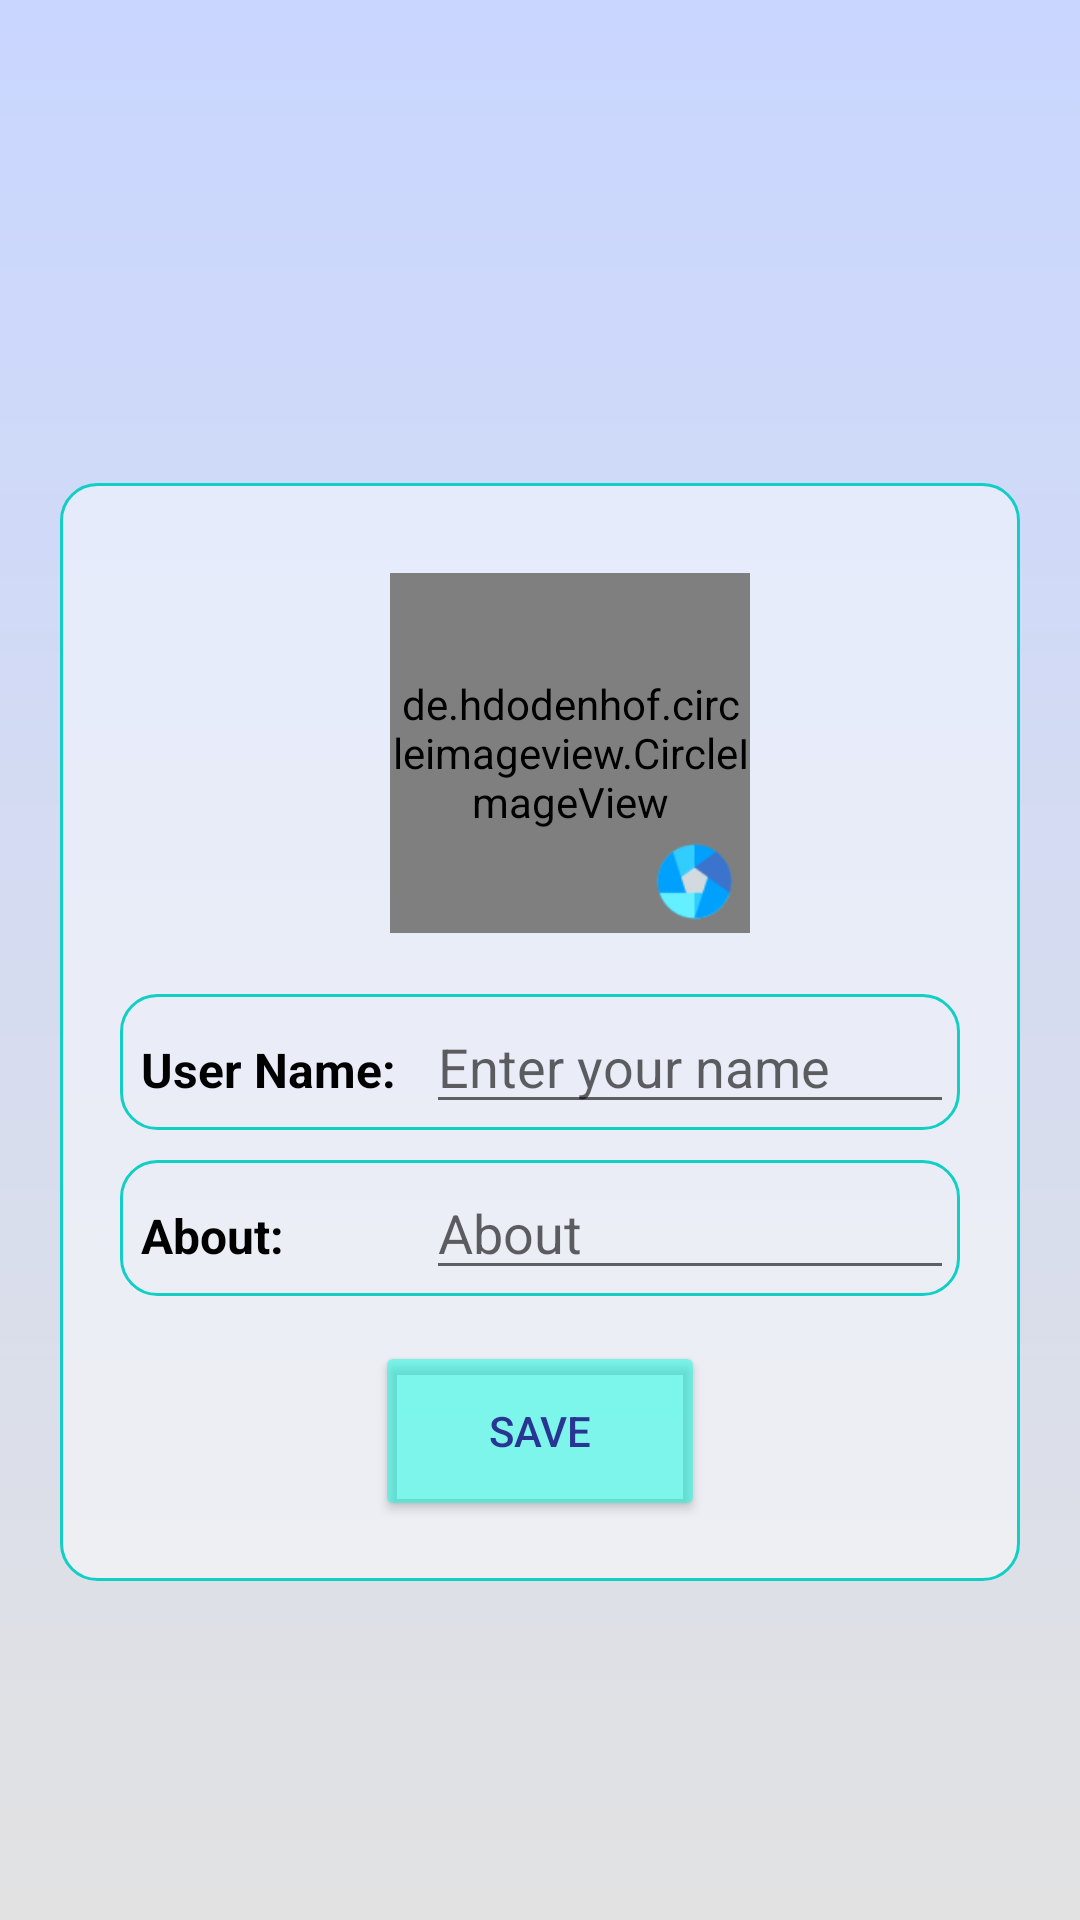

Icons on this 1080 × 1920 Android screen, each with its box as (x1, y1, x2, y2):
photoadd: (656, 843, 732, 920)
